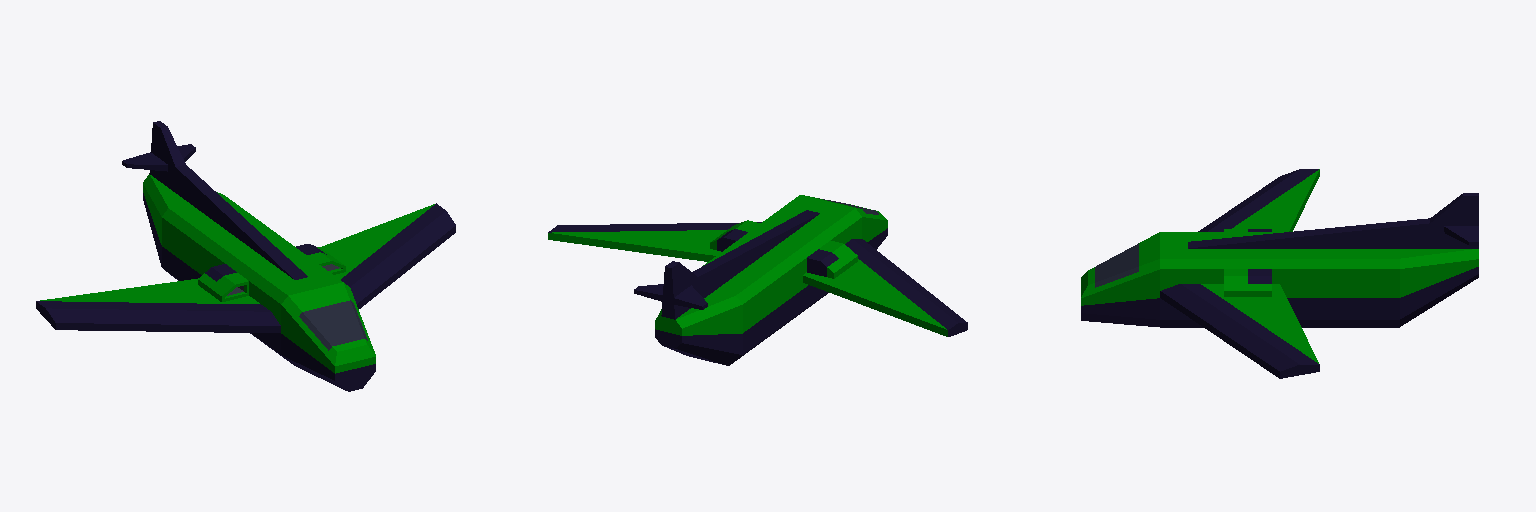
3 renders of one model, left to right at view 1: azimuth 30°, elevation 25°; view 2: azimuth 150°, elevation 25°; view 3: azimuth 270°, elevation 25°, orthographic.
Visible parts, largest first — view 1: wing_longSlant, hull_body, hull_cockpitPoint, rudder_simple, rudder_sides, engine_flat, hull_tailTop; view 2: wing_longSlant, hull_body, hull_tailTop, rudder_simple, rudder_sides, engine_flat, hull_cockpitPoint; view 3: hull_body, wing_longSlant, hull_cockpitPoint, rudder_simple, hull_tailTop, rudder_sides, engine_flat.
Boxes of the visible parts, <box> form: wing_longSlant: <box>36,203,455,332</box>; hull_body: <box>162,195,341,363</box>; hull_cockpitPoint: <box>281,282,375,391</box>; rudder_simple: <box>169,163,307,279</box>; rudder_sides: <box>122,121,195,199</box>; engine_flat: <box>198,244,345,301</box>; hull_tailTop: <box>143,174,222,266</box>; wing_longSlant: <box>548,222,967,336</box>; hull_body: <box>703,195,861,363</box>; hull_tailTop: <box>655,291,742,365</box>; rudder_simple: <box>692,210,819,292</box>; rudder_sides: <box>634,261,714,319</box>; engine_flat: <box>710,220,857,278</box>; hull_cockpitPoint: <box>804,195,887,249</box>; hull_body: <box>1160,232,1399,327</box>; wing_longSlant: <box>1160,169,1319,378</box>; hull_cockpitPoint: <box>1081,232,1159,326</box>; rudder_simple: <box>1188,218,1438,248</box>; hull_tailTop: <box>1400,249,1478,326</box>; rudder_sides: <box>1400,193,1478,248</box>; engine_flat: <box>1224,229,1271,296</box>.
Size of the model in its own units: 5.8 by 1.7 by 5.